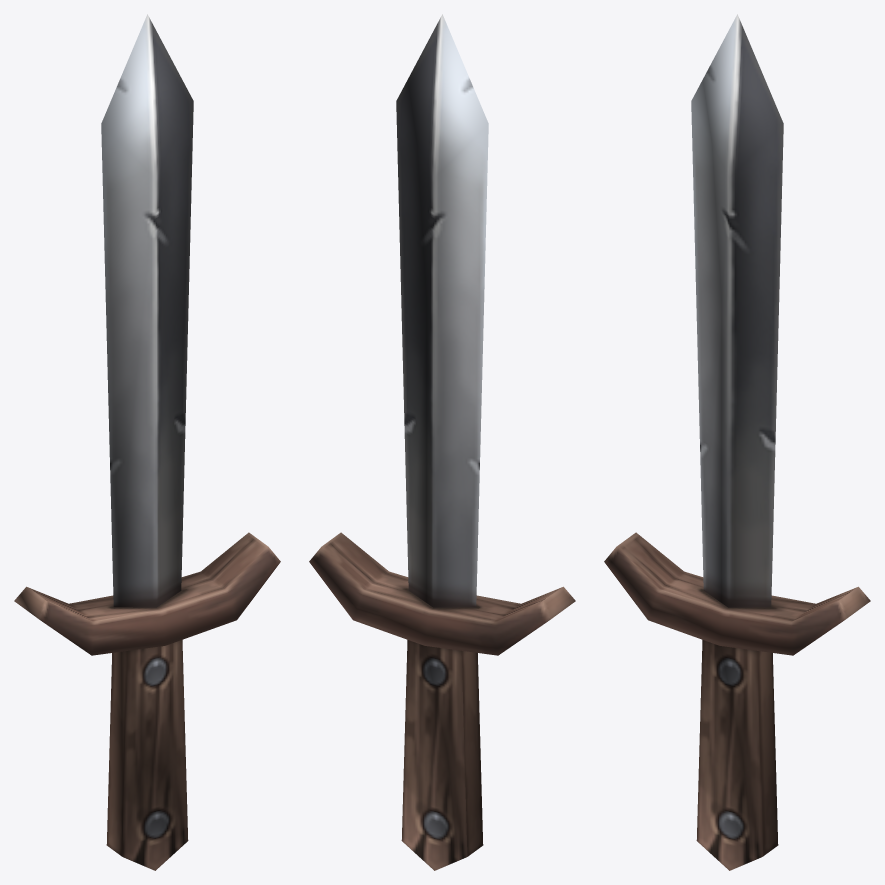
File: Wp_Sword_00.FBX
3 views of the same model, side by side, from view 1: azimuth 30°, elevation 25°; view 2: azimuth 150°, elevation 25°; view 3: azimuth 330°, elevation 25° (orthographic).
Visible parts, largest first — view 1: Wp_Sword_00; view 2: Wp_Sword_00; view 3: Wp_Sword_00.
Boxes of the visible parts, x1,y1,x2,y2 form: Wp_Sword_00: (14,14,280,870); Wp_Sword_00: (309,14,575,870); Wp_Sword_00: (604,14,870,870).
Bounding box in the file's own units: 55.97 × 189 × 14.58.
